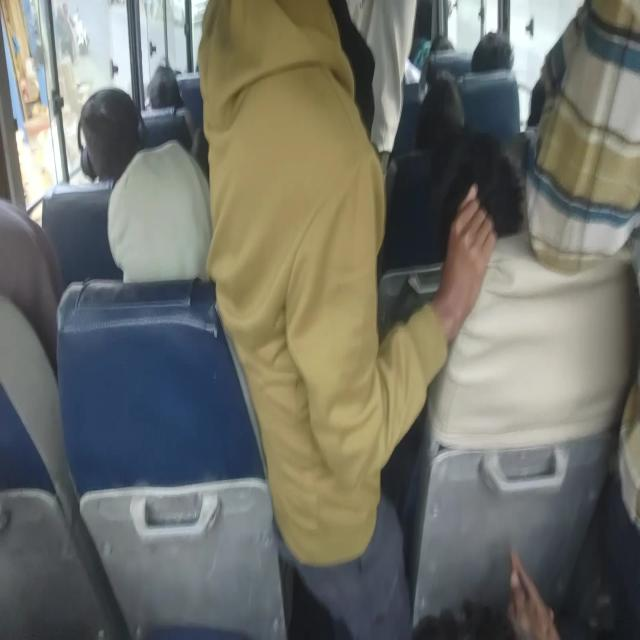person: (207, 0, 382, 440), (533, 0, 640, 224), (0, 202, 57, 430), (115, 158, 198, 252), (465, 137, 533, 251), (358, 0, 406, 121), (478, 16, 521, 94), (419, 94, 465, 140), (76, 100, 120, 137), (155, 55, 181, 104), (434, 34, 452, 54)
